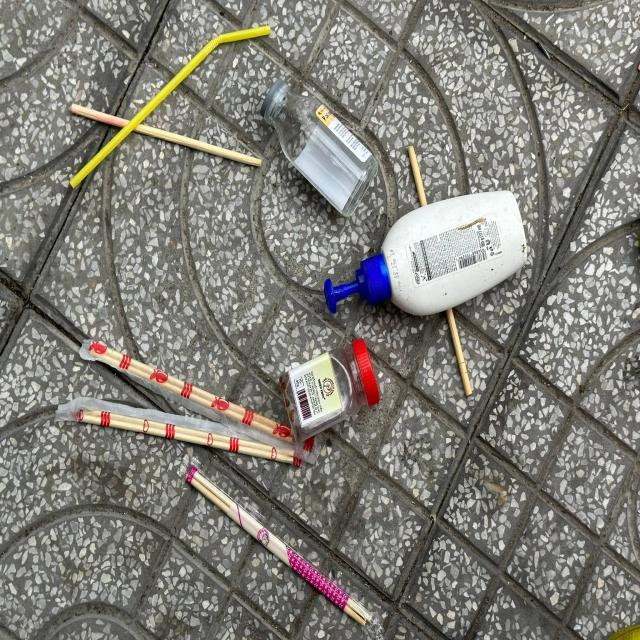bottle: (324, 191, 527, 315), (260, 80, 378, 218)
drinking straw: (68, 27, 270, 190)
plastic holder: (282, 338, 381, 444)
